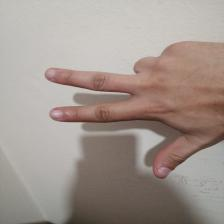three: (29, 36, 221, 180)
